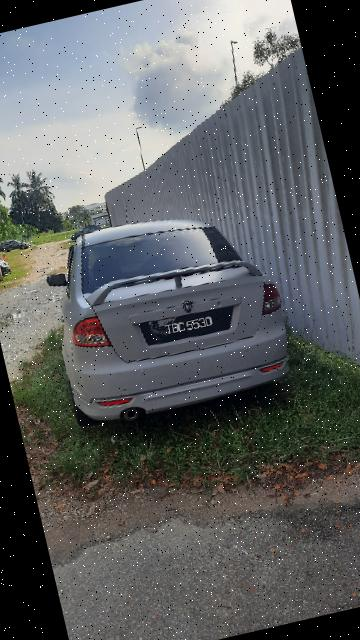License_Plate: (138, 303, 239, 352)
car: (33, 188, 304, 439)
